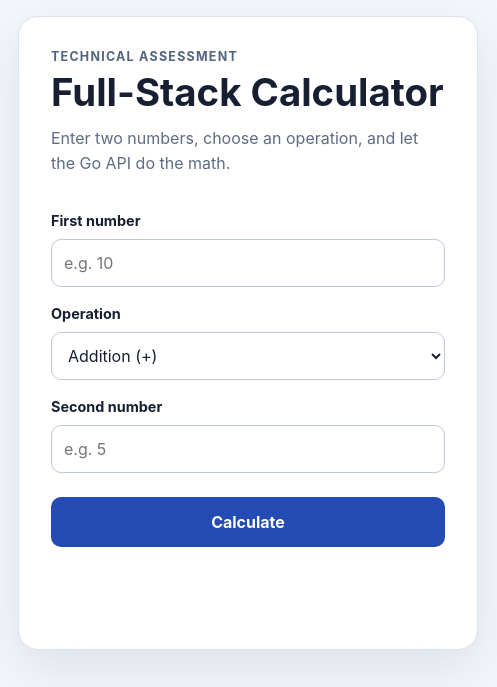
Test: App › displays a backend error
Type "10" into the field labelled "First number".
click(248, 262); type("10")  # box [51,238,445,286]
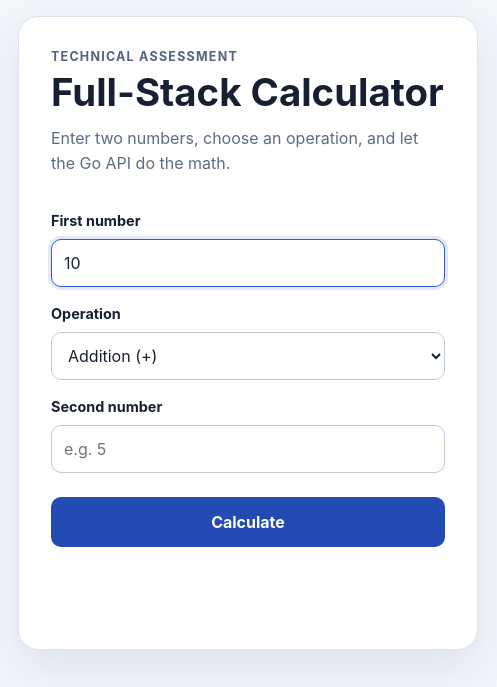
Select "Division (÷)" in the dropdown labelled "Operation" at [248, 356], box [51,332,445,380]
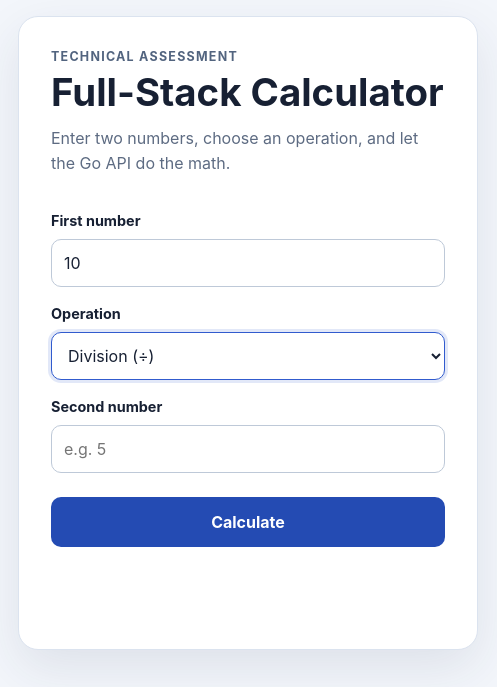
Type "0" into the field labelled "Second number".
click(248, 448); type("0")  # box [51,424,445,472]
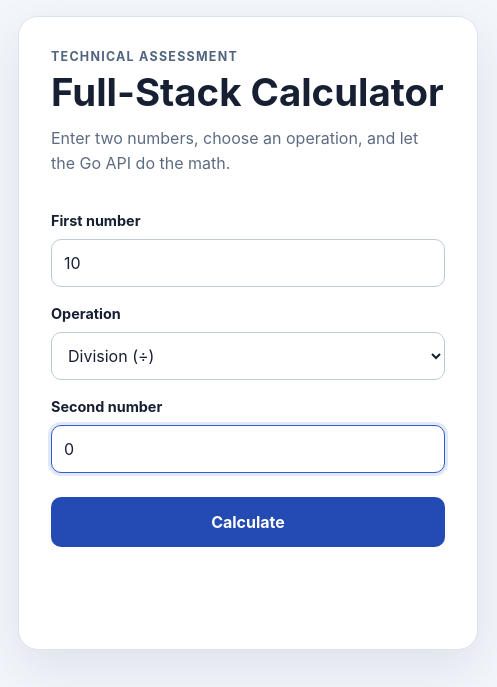
Click the button "Calculate".
click(248, 522)  # box [51,496,445,546]
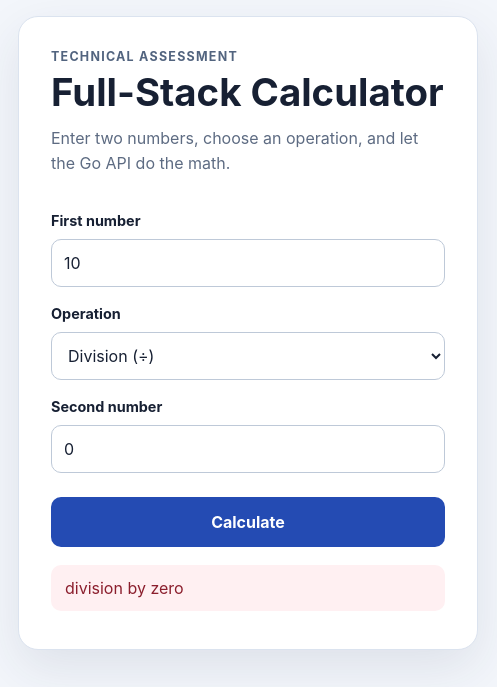
Check: the message reads "division by zero", box [65,578,184,598]
